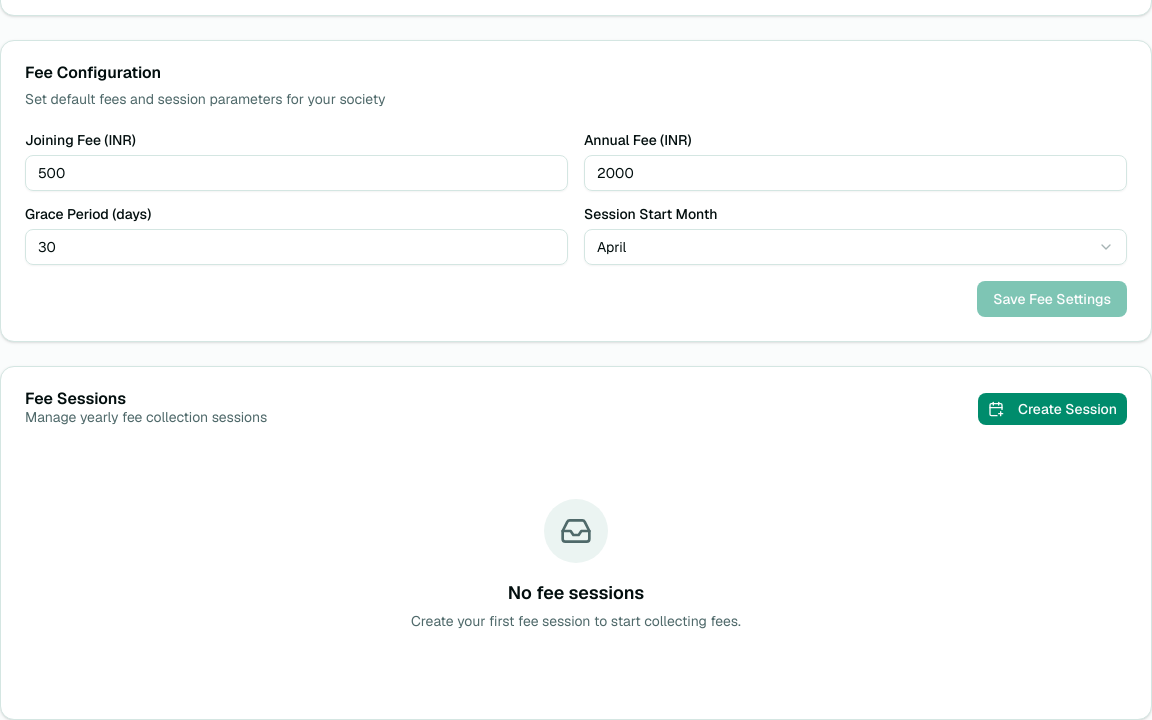
AdminSettingsPage › opens Create Session dialog when button clicked
(page scrolled)
What coordinates should you click on to do the following:
click the button "Create Session"
I would click on:
 (1052, 409)
Its box is 978,393 -> 1127,425.
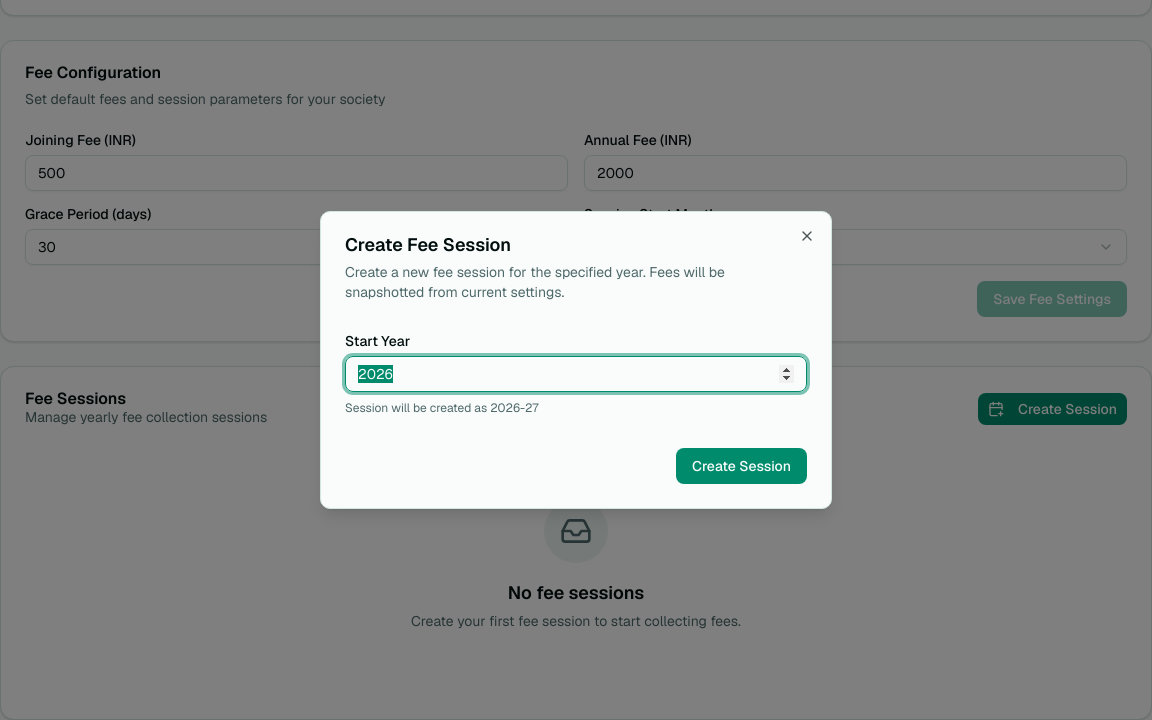
Expected: the heading "Create Fee Session" is shown, 345,233 -> 511,256
